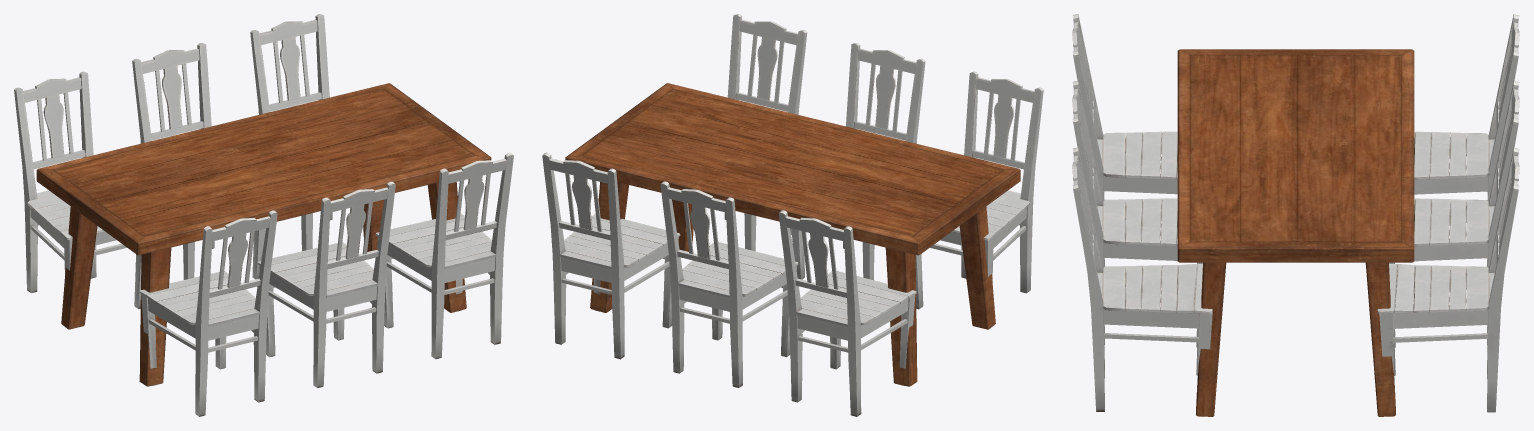
File: dining-set-6.glb
3 renders of one model, left to right at view 1: azimuth 30°, elevation 25°; view 2: azimuth 150°, elevation 25°; view 3: azimuth 270°, elevation 25°, orthographic. The views are drawn at different scales.
Parts seen in each view (by area): view 1: painted_wooden_chair_01 (×6), wooden_table_02; view 2: painted_wooden_chair_01 (×6), wooden_table_02; view 3: wooden_table_02, painted_wooden_chair_01 (×6).
Part boxes in pixels (<box>): painted_wooden_chair_01 (×6): <box>14,14,513,416</box>; wooden_table_02: <box>36,83,491,386</box>; painted_wooden_chair_01 (×6): <box>542,14,1043,416</box>; wooden_table_02: <box>565,83,1020,386</box>; wooden_table_02: <box>1177,49,1414,416</box>; painted_wooden_chair_01 (×6): <box>1072,14,1519,412</box>.
Size of the model in its own units: 1.8 by 0.955 by 1.7.
Materials: 2 (2 with a texture image).
